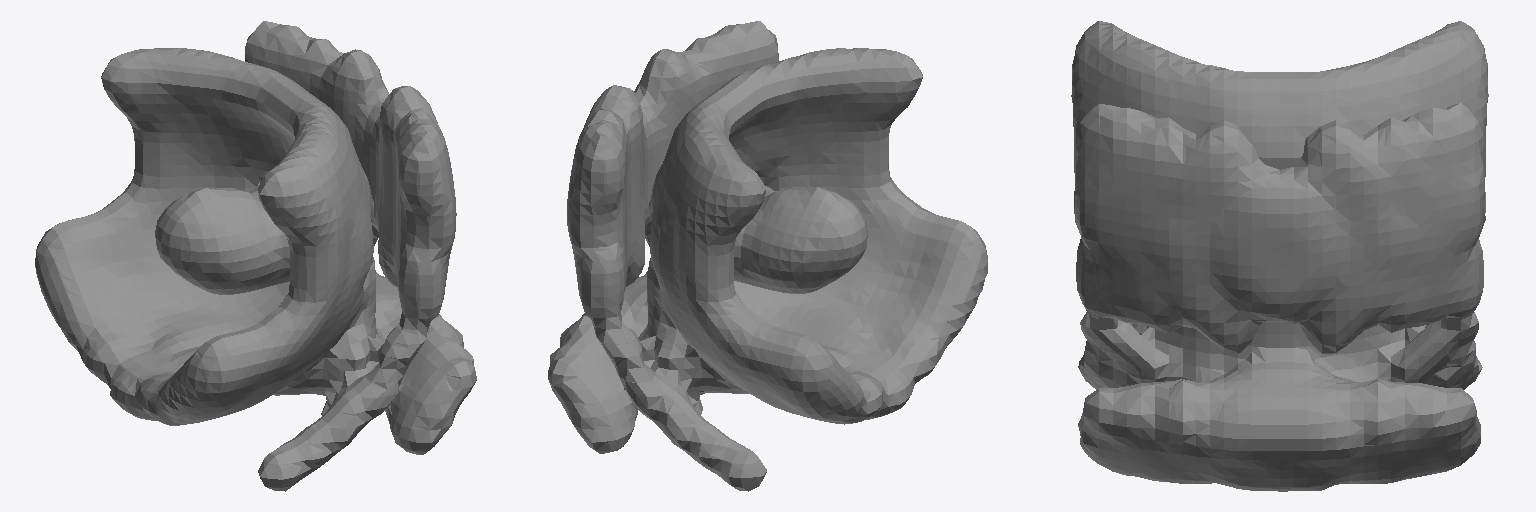
URDF robot description (cube.urdf):
<?xml version="0.0" ?> 
<robot name="cube.urdf"> 
<link name="legobrick"> 
<contact> 
<lateral_friction value="5.0"/> 
<rolling_friction value="0.0"/> 
<contact_cfm value="0.0"/> 
<contact_erp value="1.0"/> 
</contact> 
<inertial> 
<origin rpy="0 0 0" xyz="0.0 0.0 0.0"/> 
<mass value=".01"/> 
<inertia ixx="1" ixy="0" ixz="0" iyy="1" iyz="0" izz="1"/> 
</inertial> 
<visual> 
<origin rpy="1.570796 0 0" xyz="-0.02960205917585952 0.026074754907502117 -0.024963843612710097"/> 
<geometry> 
<mesh filename="T19_2.obj" scale="0.000693651059712376 0.000693651059712376 0.000693651059712376"/> 
</geometry> 
<material name="yellow"> 
<color rgba="0.6 0.6 0.6 1"/> 
</material> 
</visual> 
<collision> 
<origin rpy="1.570796 0 0" xyz="-0.02960205917585952 0.026074754907502117 -0.024963843612710097"/> 
<geometry> 
<mesh filename="T19_2.obj" scale="0.000693651059712376 0.000693651059712376 0.000693651059712376"/> 
</geometry> 
</collision> 
</link> 
</robot>

--- Render facts (derived) ---
Views: 3 orthographic renders of the robot side by side, from view 1: azimuth 30°, elevation 25°; view 2: azimuth 150°, elevation 25°; view 3: azimuth 270°, elevation 25°.
Model cube.urdf with 1 links and 0 joints (none), rooted at legobrick, posed all joints at 0.
Links seen in each view (by area): view 1: legobrick; view 2: legobrick; view 3: legobrick.
Boxes of the visible links, x1,y1,x2,y2 form: legobrick: (35,21,476,491); legobrick: (548,21,987,491); legobrick: (1071,21,1488,491).
Bounding box of the posed robot: 0.056 × 0.0563 × 0.0558 m (x, y, z).
Meshes: 1 distinct files referenced, 1 mesh visuals loaded (1 OBJ).
